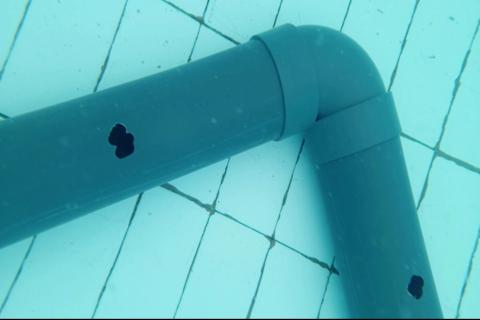kebocoran: (106, 121, 136, 162), (407, 272, 425, 301)
